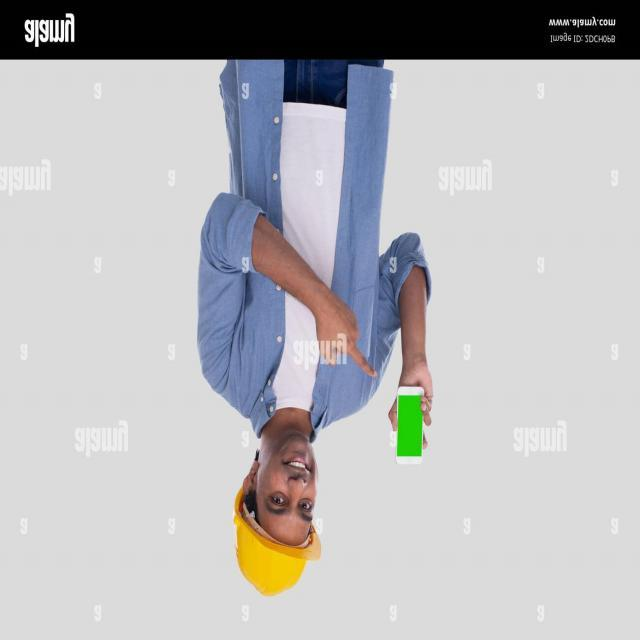safetyhelmet: (225, 455, 330, 607)
